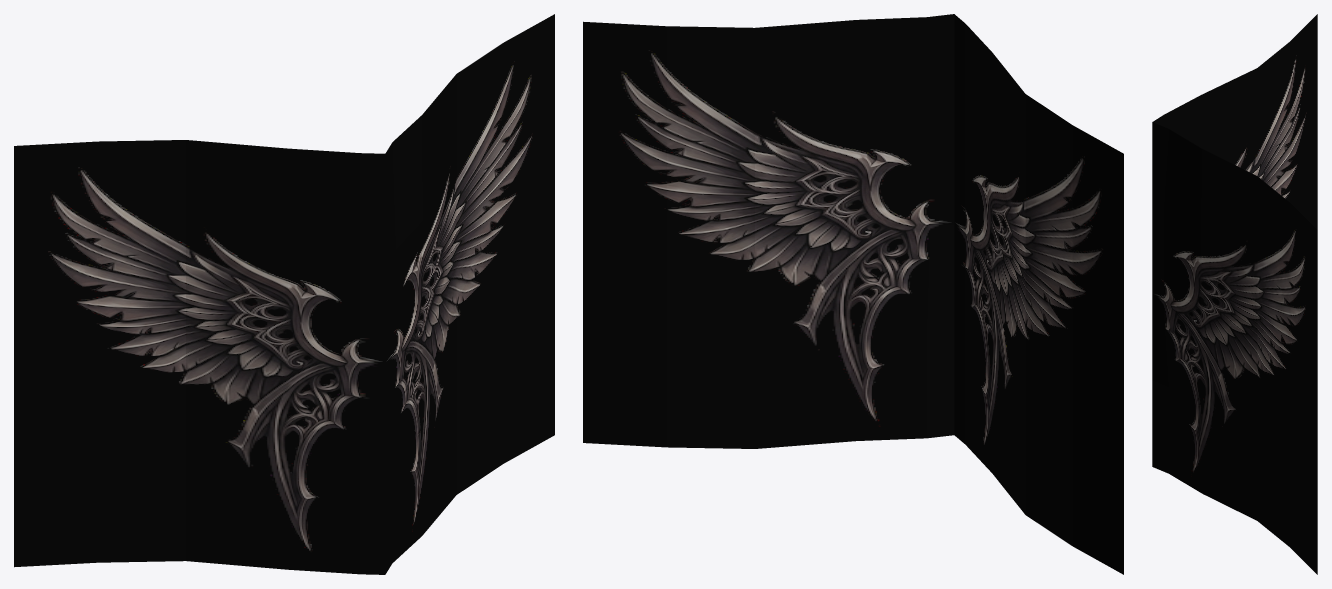
File: canh 10.fbx
3 views of the same model, side by side, from view 1: azimuth 30°, elevation 25°; view 2: azimuth 150°, elevation 25°; view 3: azimuth 270°, elevation 25° (orthographic). The views are drawn at different scales.
Visible parts, largest first — view 1: 10; view 2: 10; view 3: 10.
Boxes of the visible parts, box(x1,y1,x2,y2) form: 10: box(14, 14, 554, 574); 10: box(583, 14, 1123, 574); 10: box(1152, 14, 1317, 574).
Size of the model in its own units: 1.51 by 1.12 by 0.486.
